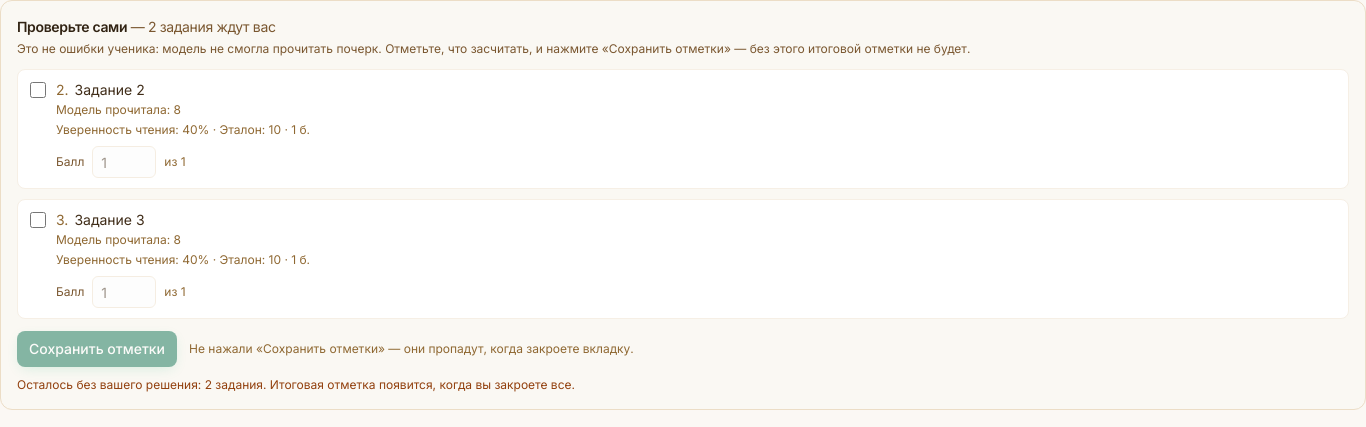
ManualMarksEditor — отметки учителя (ТЗ-19) › после успеха — «Сохранено», кнопка гаснет до изменения отметок
Click the checkbox with test id "manual-mark-2" at (38, 90), box [30,82,46,98]
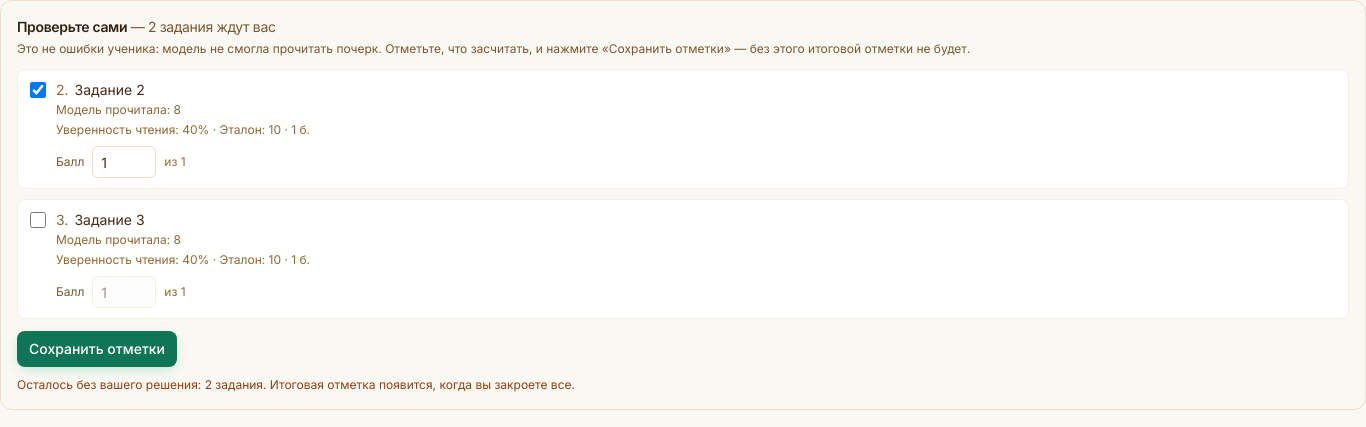
Click the button with test id "manual-marks-save" at (97, 349), box [17,331,177,367]
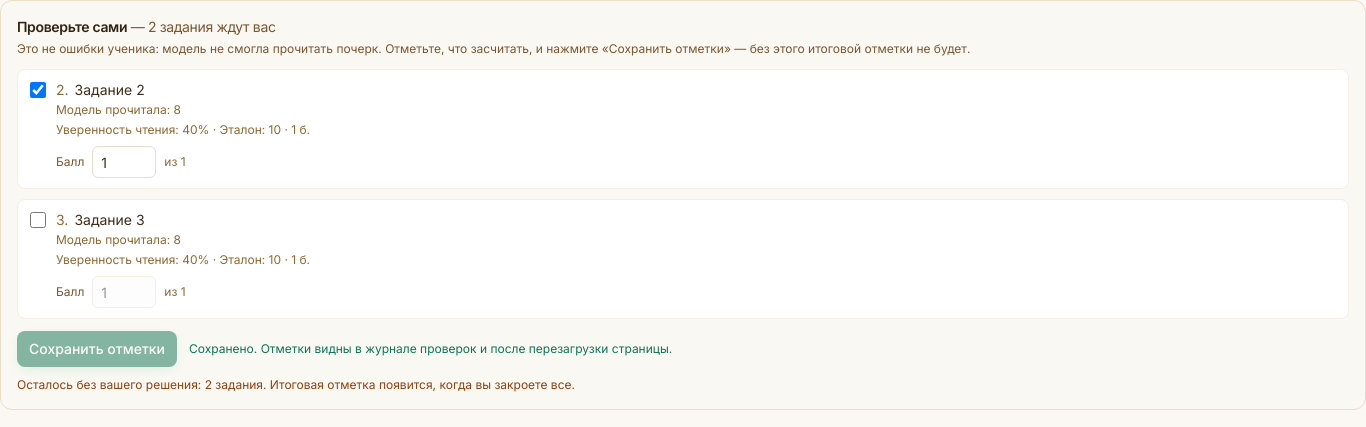
Check: the message "Сохранено. Отметки видны в журнале проверок и после перезагрузки страницы." is shown, box [189,341,672,357]
Check: the text "Сохранено" is shown, box [189,341,672,356]
Check: the button with test id "manual-marks-save" is disabled, box [17,331,177,367]
